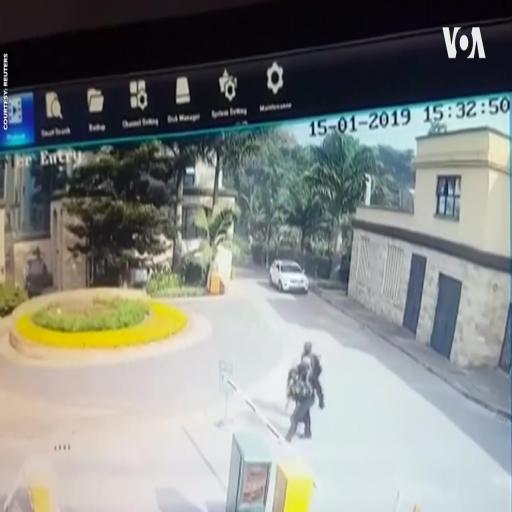Guns: (286, 364, 294, 400)
